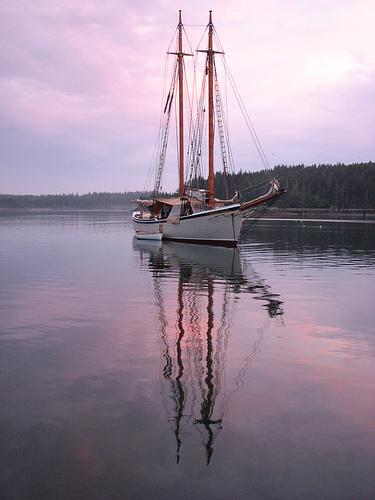Ship: (130, 9, 283, 248)
